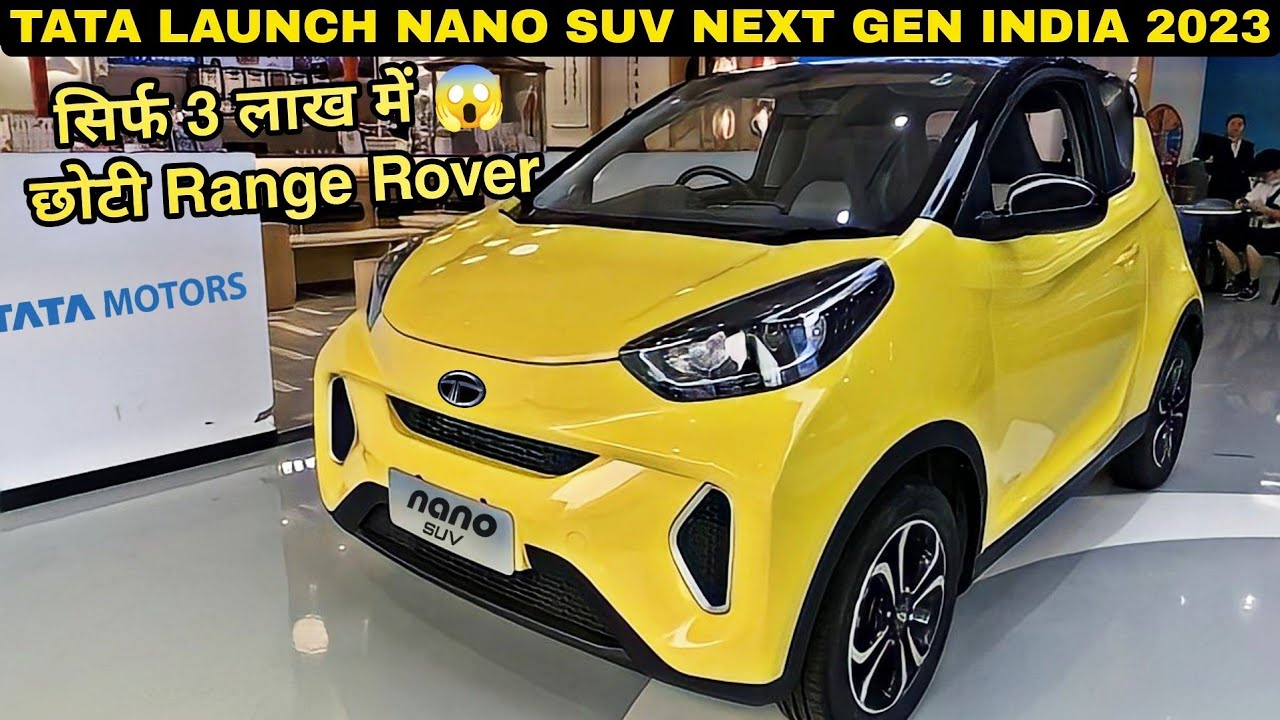Nano: (311, 54, 1207, 720)
